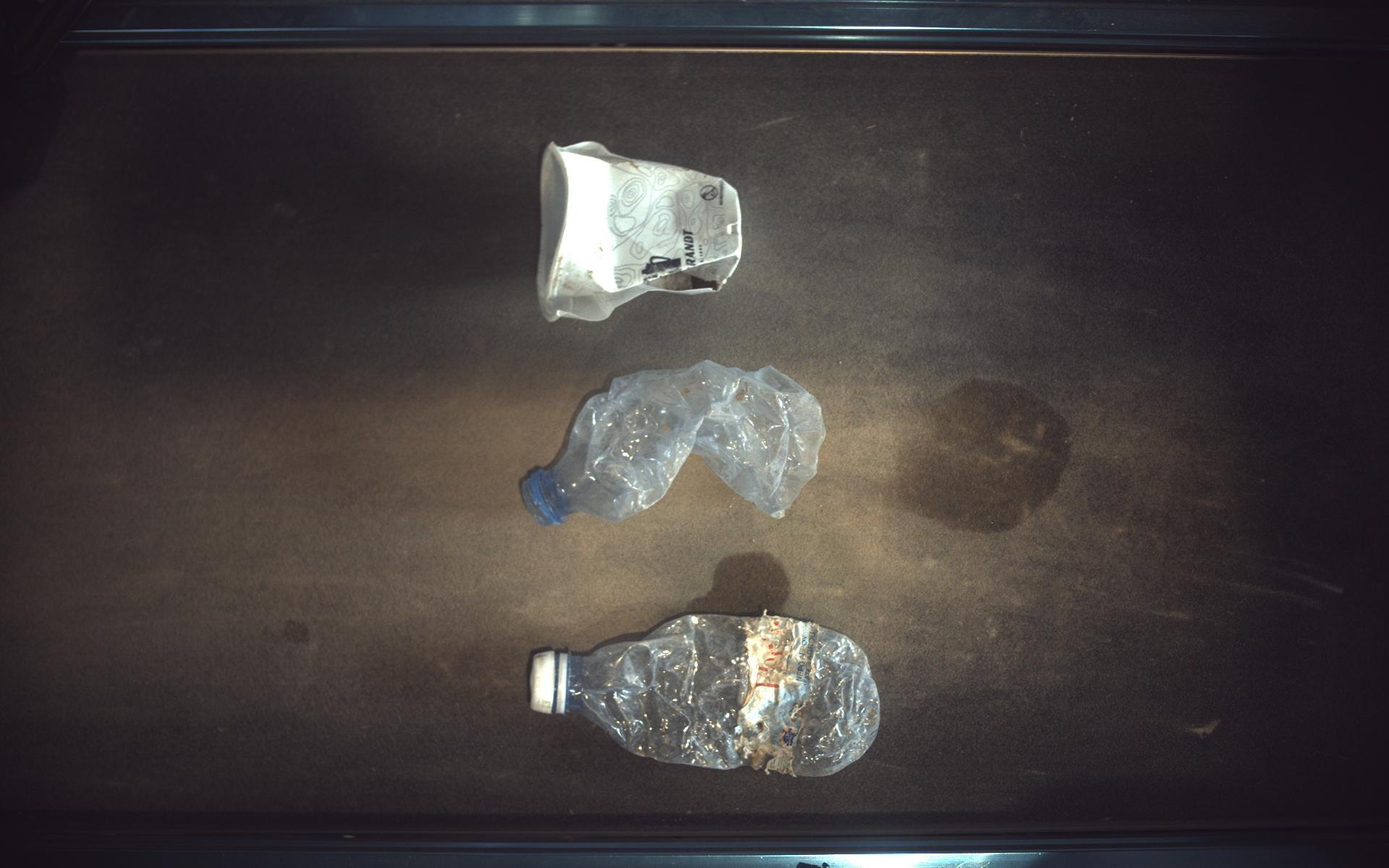general_w: (530, 615, 882, 778), (521, 360, 827, 526), (538, 140, 743, 320)
